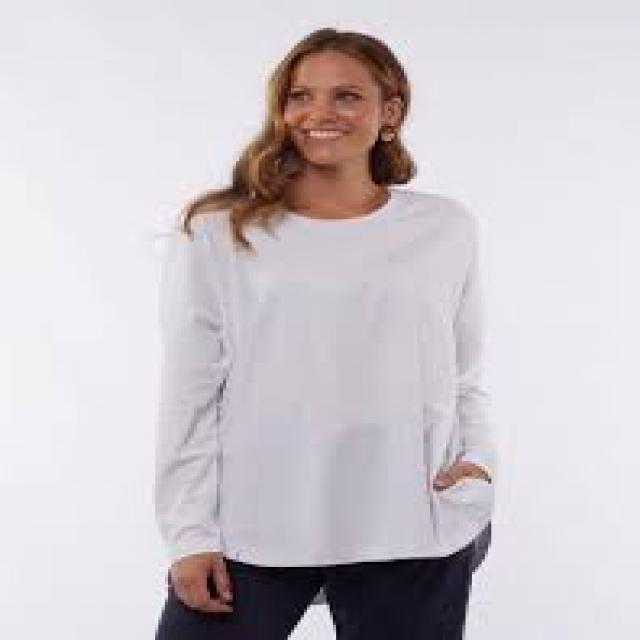plain: (137, 175, 508, 568)
